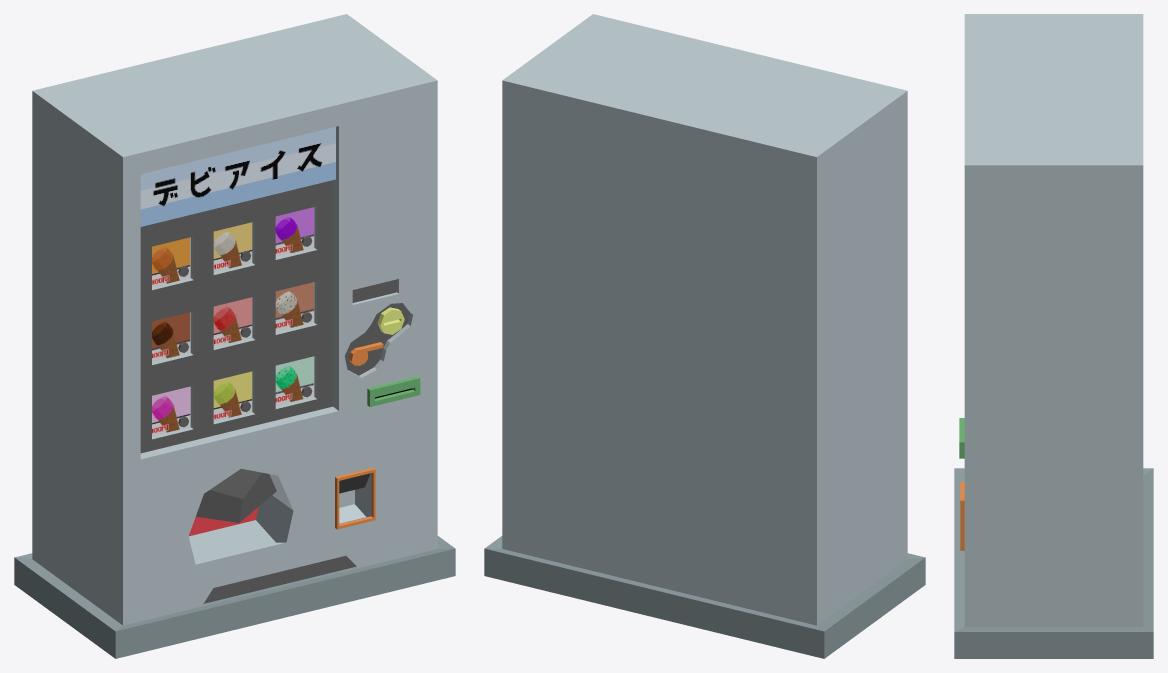
Rendered from game_icezihanki.fbx.
3 views of the same model, side by side, from view 1: azimuth 30°, elevation 25°; view 2: azimuth 150°, elevation 25°; view 3: azimuth 270°, elevation 25° (orthographic).
Parts seen in each view (by area): view 1: ice_zihanki, button; view 2: ice_zihanki; view 3: ice_zihanki.
Boxes of the visible parts, <box> form: ice_zihanki: <box>14,14,455,658</box>; button: <box>178,236,312,427</box>; ice_zihanki: <box>484,14,925,658</box>; ice_zihanki: <box>954,14,1153,658</box>.
Size of the model in its own units: 648 by 902 by 334.
